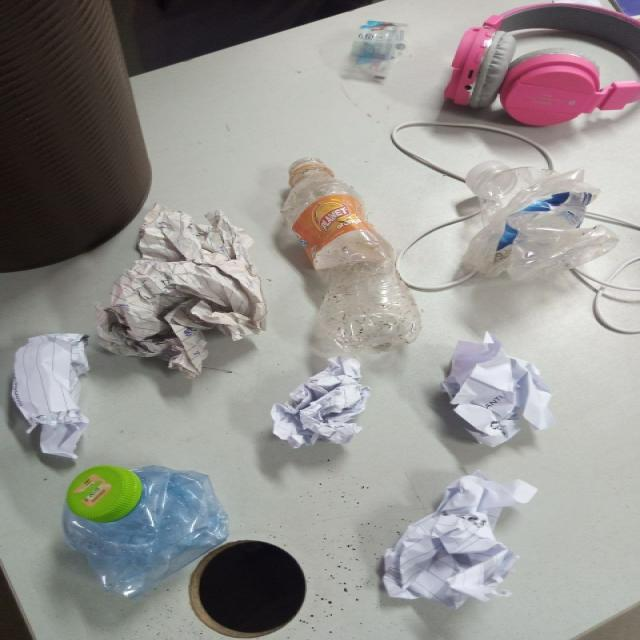Paper: (101, 208, 267, 375), (380, 475, 536, 611), (441, 332, 553, 449), (7, 333, 89, 469), (271, 360, 371, 450)
Plastic: (280, 159, 421, 361), (48, 464, 233, 604), (457, 155, 625, 288)
